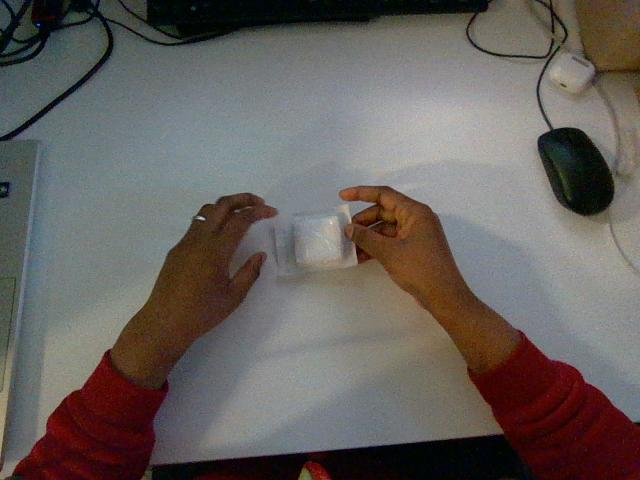gauze: (275, 204, 357, 275)
